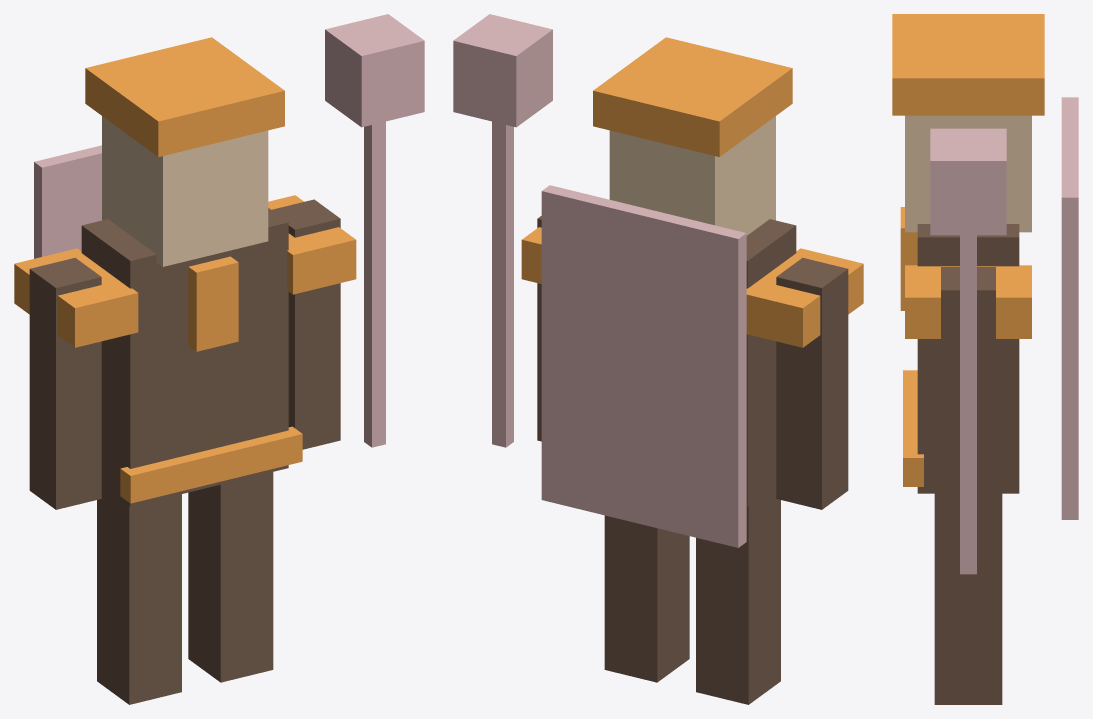
The model's file is 12_ossa_gravesong_pilgrim_at_deprecated.glb.
3 renders of one model, left to right at view 1: azimuth 30°, elevation 25°; view 2: azimuth 150°, elevation 25°; view 3: azimuth 270°, elevation 25°, orthographic. The views are drawn at different scales.
Parts seen in each view (by area): view 1: Ossa Gravesong, Pilgrim at Deprecated; view 2: Ossa Gravesong, Pilgrim at Deprecated; view 3: Ossa Gravesong, Pilgrim at Deprecated.
Part boxes in pixels (<box>): Ossa Gravesong, Pilgrim at Deprecated: <box>14,14,424,704</box>; Ossa Gravesong, Pilgrim at Deprecated: <box>453,14,863,704</box>; Ossa Gravesong, Pilgrim at Deprecated: <box>892,14,1078,704</box>.
Bounding box in the file's own units: 1.08 × 1.69 × 0.4586.
